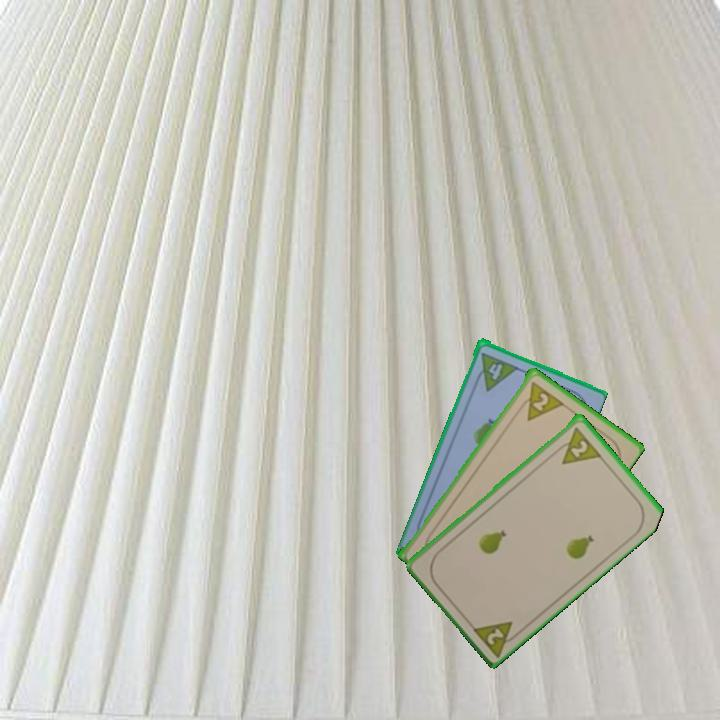2p: (468, 617, 524, 659), (514, 377, 565, 423), (550, 423, 603, 467)
4p: (470, 348, 520, 393)
